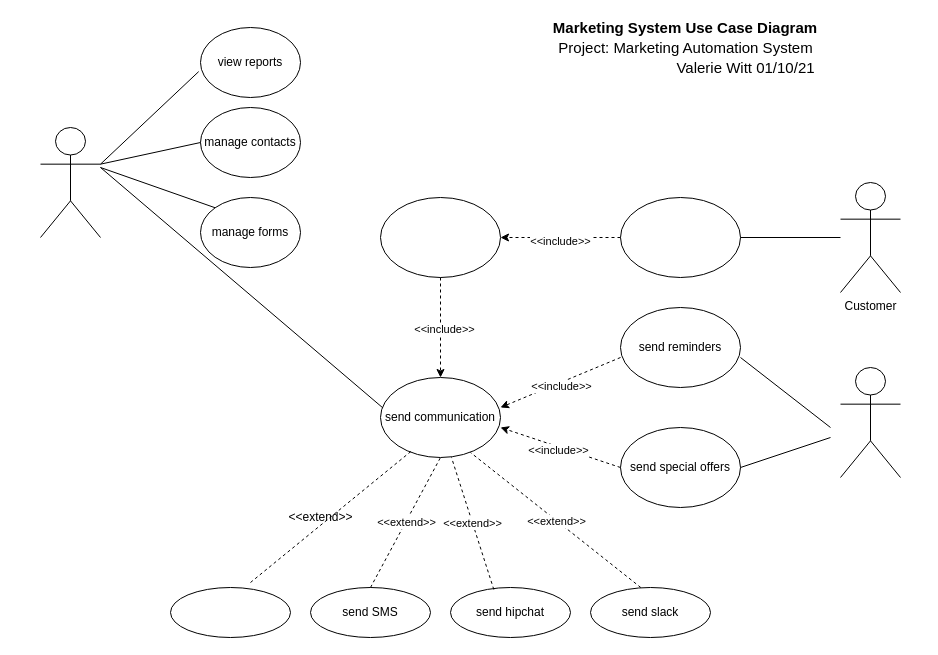
Image size: 938x655. Some labels were removed from this diagram. Here are the shapes that lost their labels. From the top down, the box of each, then its label:
(40, 126, 100, 238): Marketing Specialist
(380, 196, 500, 278): notify marketing specilist
(620, 196, 740, 278): submit form
(840, 366, 900, 478): <<system>> Notification Engine
(170, 586, 290, 638): send email
